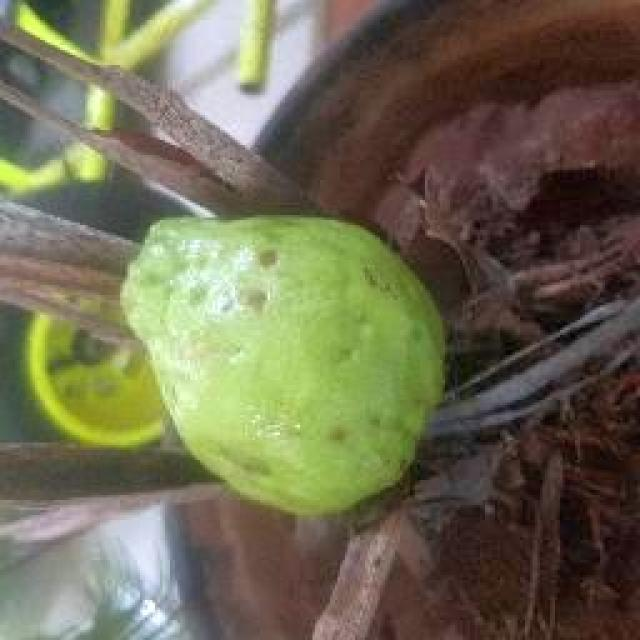Good_Guava: (118, 215, 450, 520)
